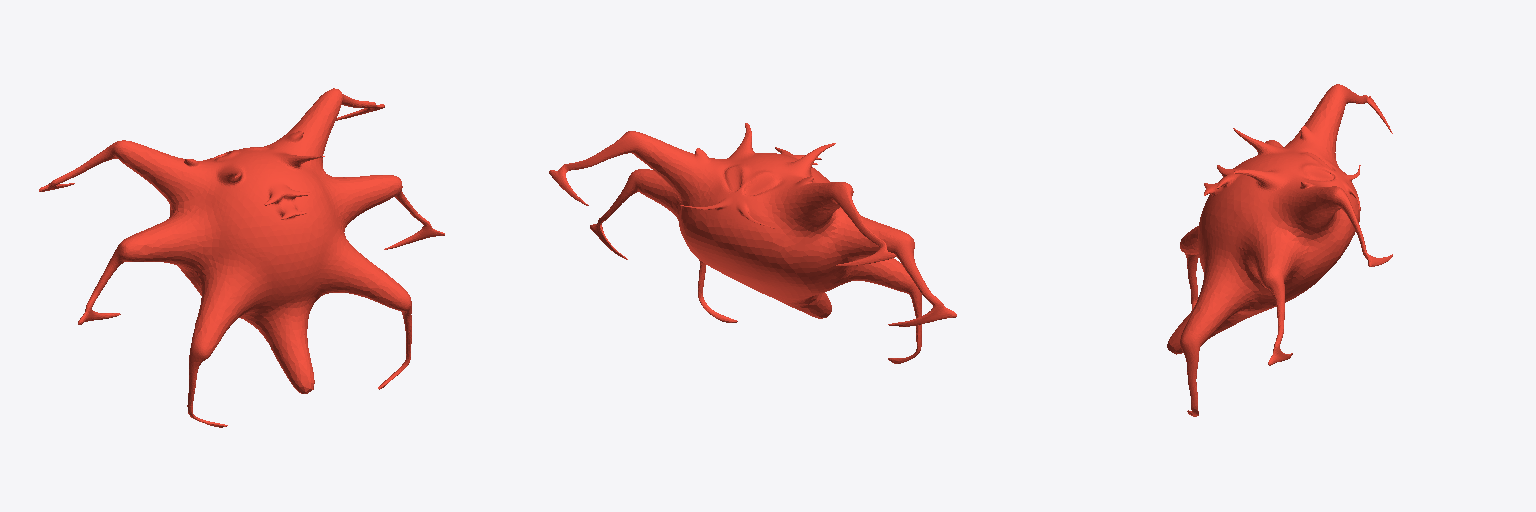
Rendered from the-new-friendly-bug.obj.
The picture shows the model from 3 angles: view 1: azimuth 30°, elevation 25°; view 2: azimuth 150°, elevation 25°; view 3: azimuth 270°, elevation 25°; orthographic projection.
Visible parts, largest first — view 1: 6638_vn_obj_1; view 2: 6638_vn_obj_1; view 3: 6638_vn_obj_1.
Boxes of the visible parts, <box> form: 6638_vn_obj_1: <box>39,88,444,427</box>; 6638_vn_obj_1: <box>549,123,956,363</box>; 6638_vn_obj_1: <box>1167,84,1392,416</box>.
Size of the model in its own units: 4.76 by 2.97 by 2.54.